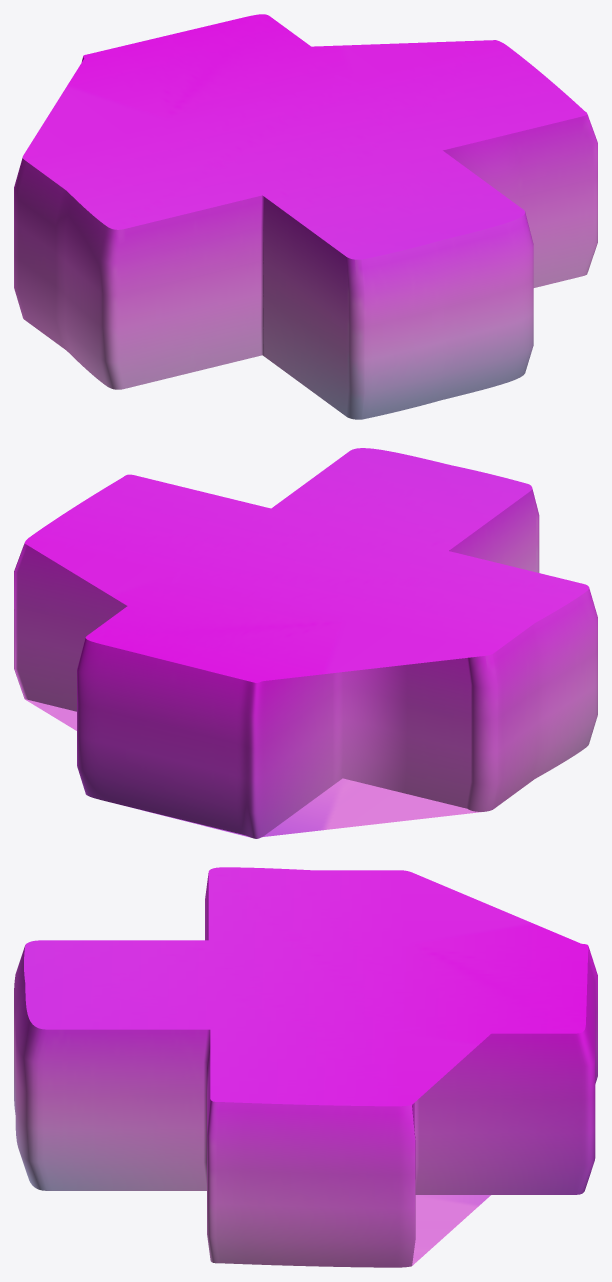
3 renders of one model, top to bottom at view 1: azimuth 30°, elevation 25°; view 2: azimuth 150°, elevation 25°; view 3: azimuth 270°, elevation 25°, orthographic. The views are drawn at different scales.
Parts seen in each view (by area): view 1: Curve.011; view 2: Curve.011; view 3: Curve.011.
Boxes of the visible parts, x1=… form: Curve.011: x1=14, y1=14, x2=597, y2=419; Curve.011: x1=14, y1=448, x2=597, y2=838; Curve.011: x1=14, y1=867, x2=597, y2=1267.
Bounding box in the file's own units: 37.31 × 11.36 × 37.26.
1 material, 1 textured.
